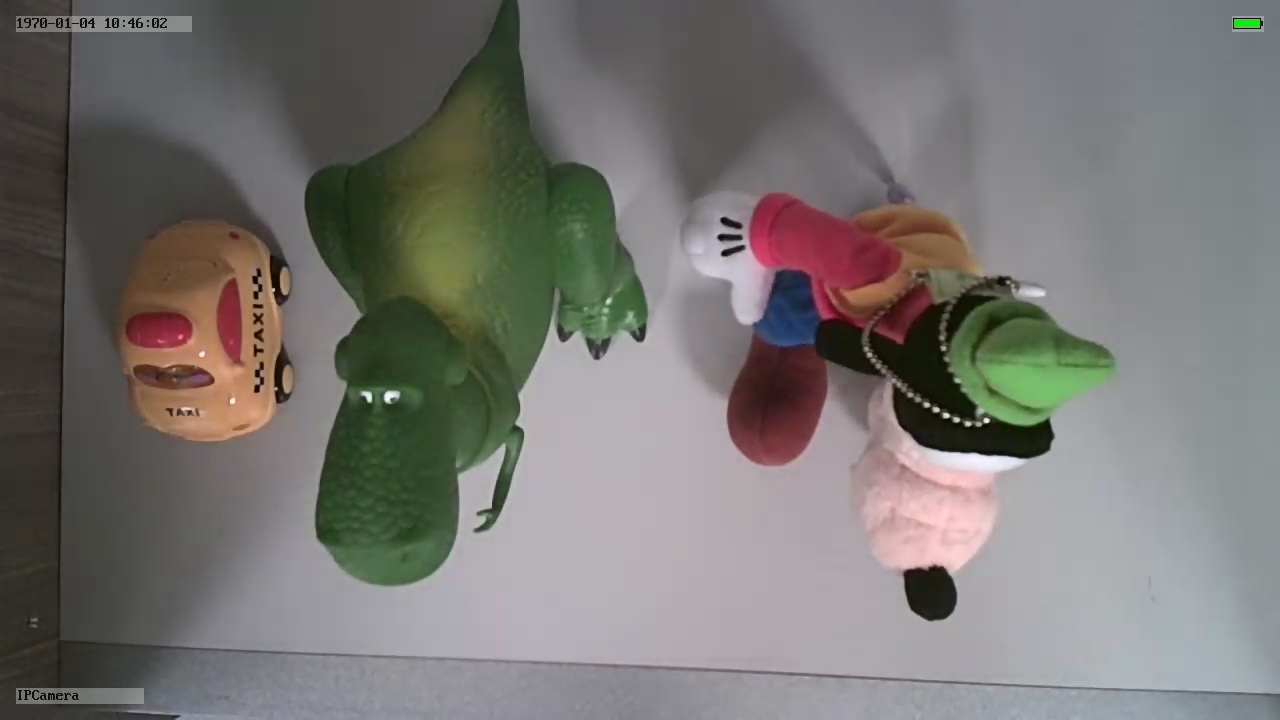car: (111, 207, 299, 441)
goofy: (683, 174, 1119, 626)
rex: (307, 71, 652, 590)
